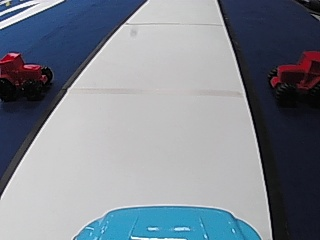tractor: (265, 48, 318, 109), (0, 49, 53, 102)
